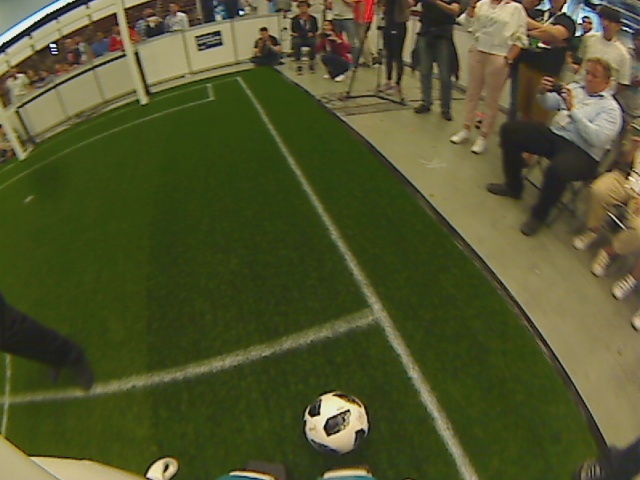ball: (300, 390, 369, 457)
